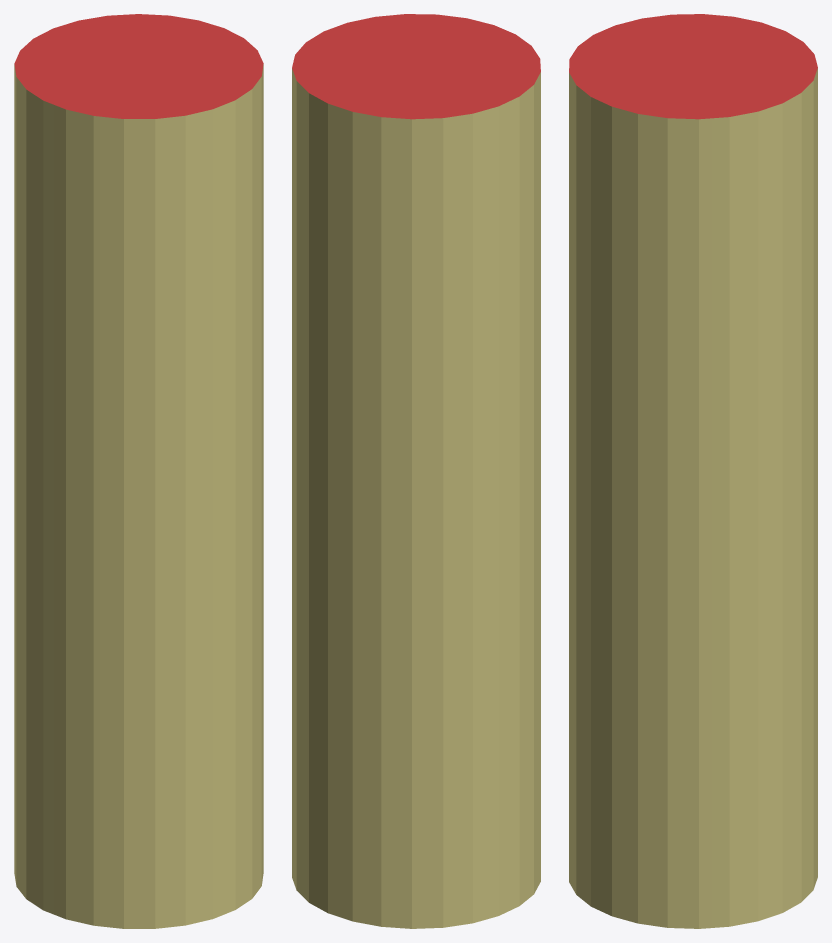
3 renders of one model, left to right at view 1: azimuth 30°, elevation 25°; view 2: azimuth 150°, elevation 25°; view 3: azimuth 270°, elevation 25°, orthographic.
Bounding box in the file's own units: 3.76 × 3.75 × 13.47.
